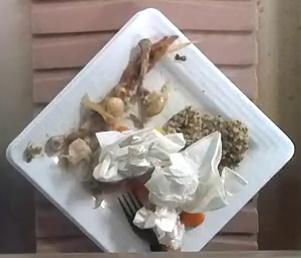carrots: (126, 172, 155, 209), (180, 211, 205, 227)
quinoa: (157, 105, 247, 167)
